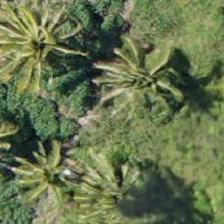coconut_tree: (101, 35, 191, 125), (11, 126, 101, 216), (0, 0, 89, 85)
